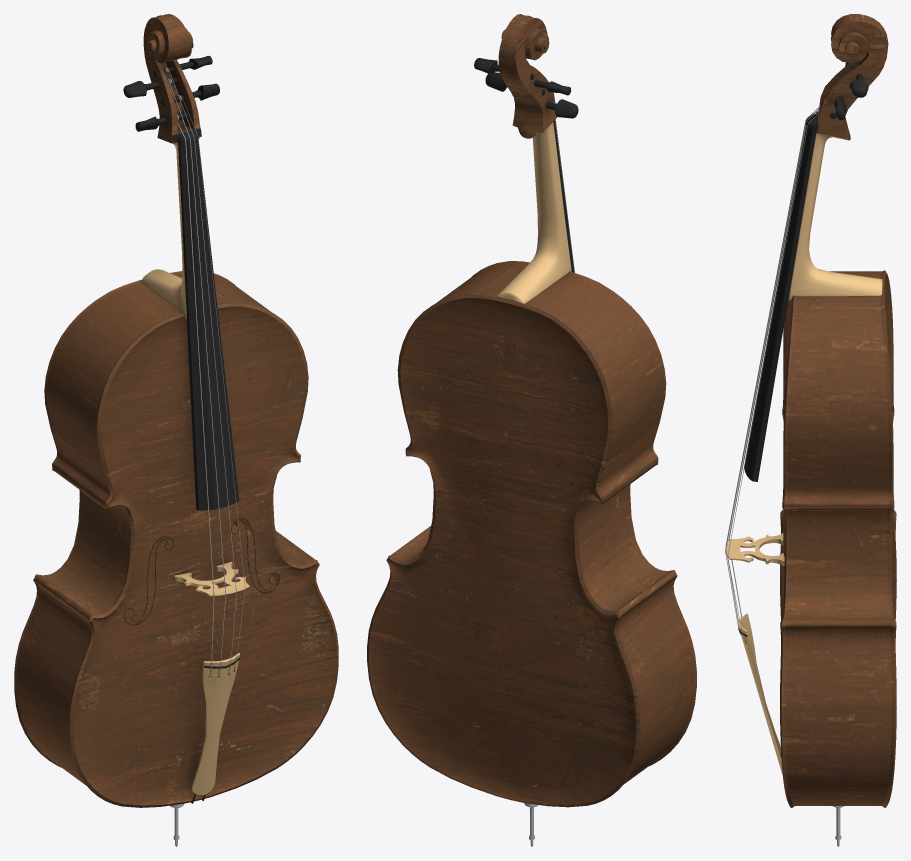
Rendered from cello.glb.
3 views of the same model, side by side, from view 1: azimuth 30°, elevation 25°; view 2: azimuth 150°, elevation 25°; view 3: azimuth 270°, elevation 25° (orthographic).
Visible parts, largest first — view 1: uyuyiuyuiytrt_Material #462_0; view 2: uyuyiuyuiytrt_Material #462_0; view 3: uyuyiuyuiytrt_Material #462_0.
Boxes of the visible parts, x1=… form: uyuyiuyuiytrt_Material #462_0: x1=14, y1=14, x2=338, y2=846; uyuyiuyuiytrt_Material #462_0: x1=367, y1=14, x2=696, y2=846; uyuyiuyuiytrt_Material #462_0: x1=725, y1=14, x2=896, y2=846.
Size of the model in its own units: 0.4778 by 1.4 by 0.2621.
1 material, 1 textured.
